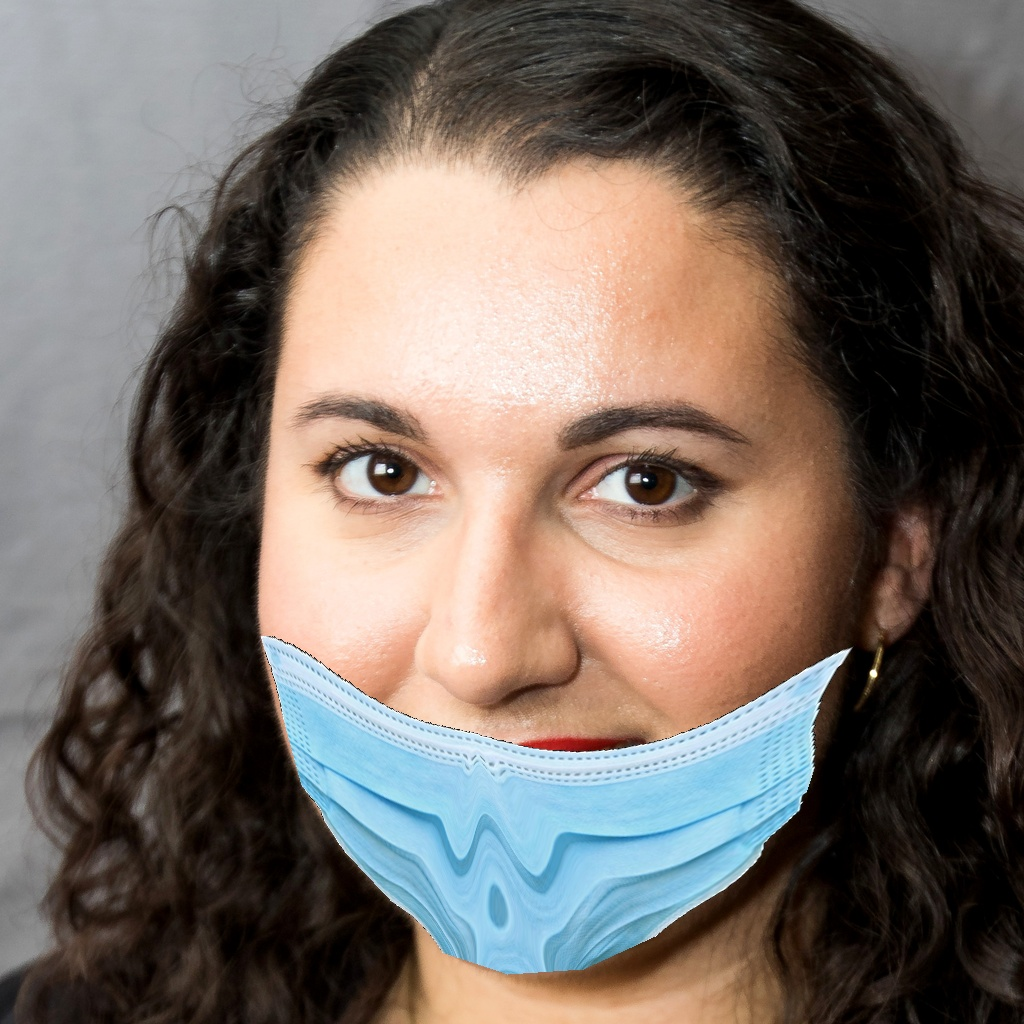mascarilla_mal_puesta: (244, 383, 854, 980)
